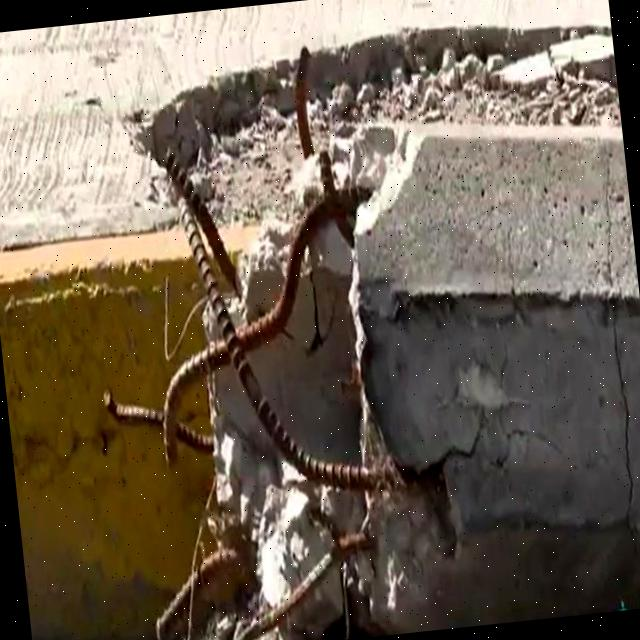Broken Pole: (106, 21, 640, 640)
